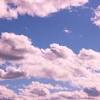sky: (1, 1, 99, 99)
